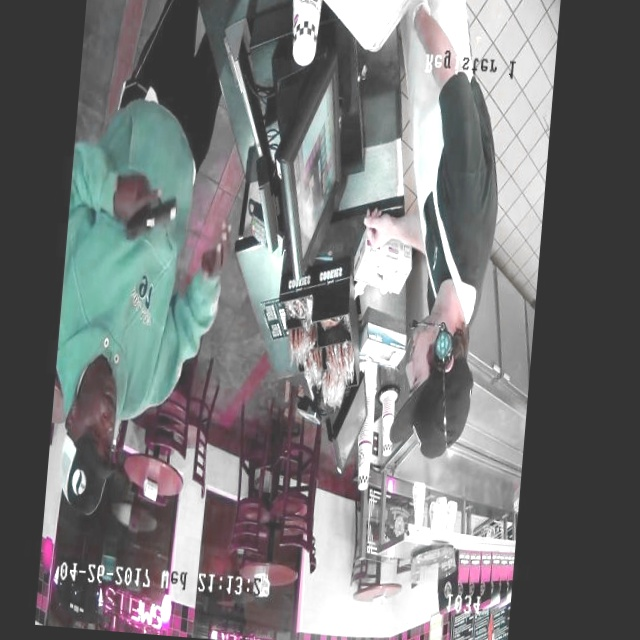gun: (105, 166, 190, 262)
